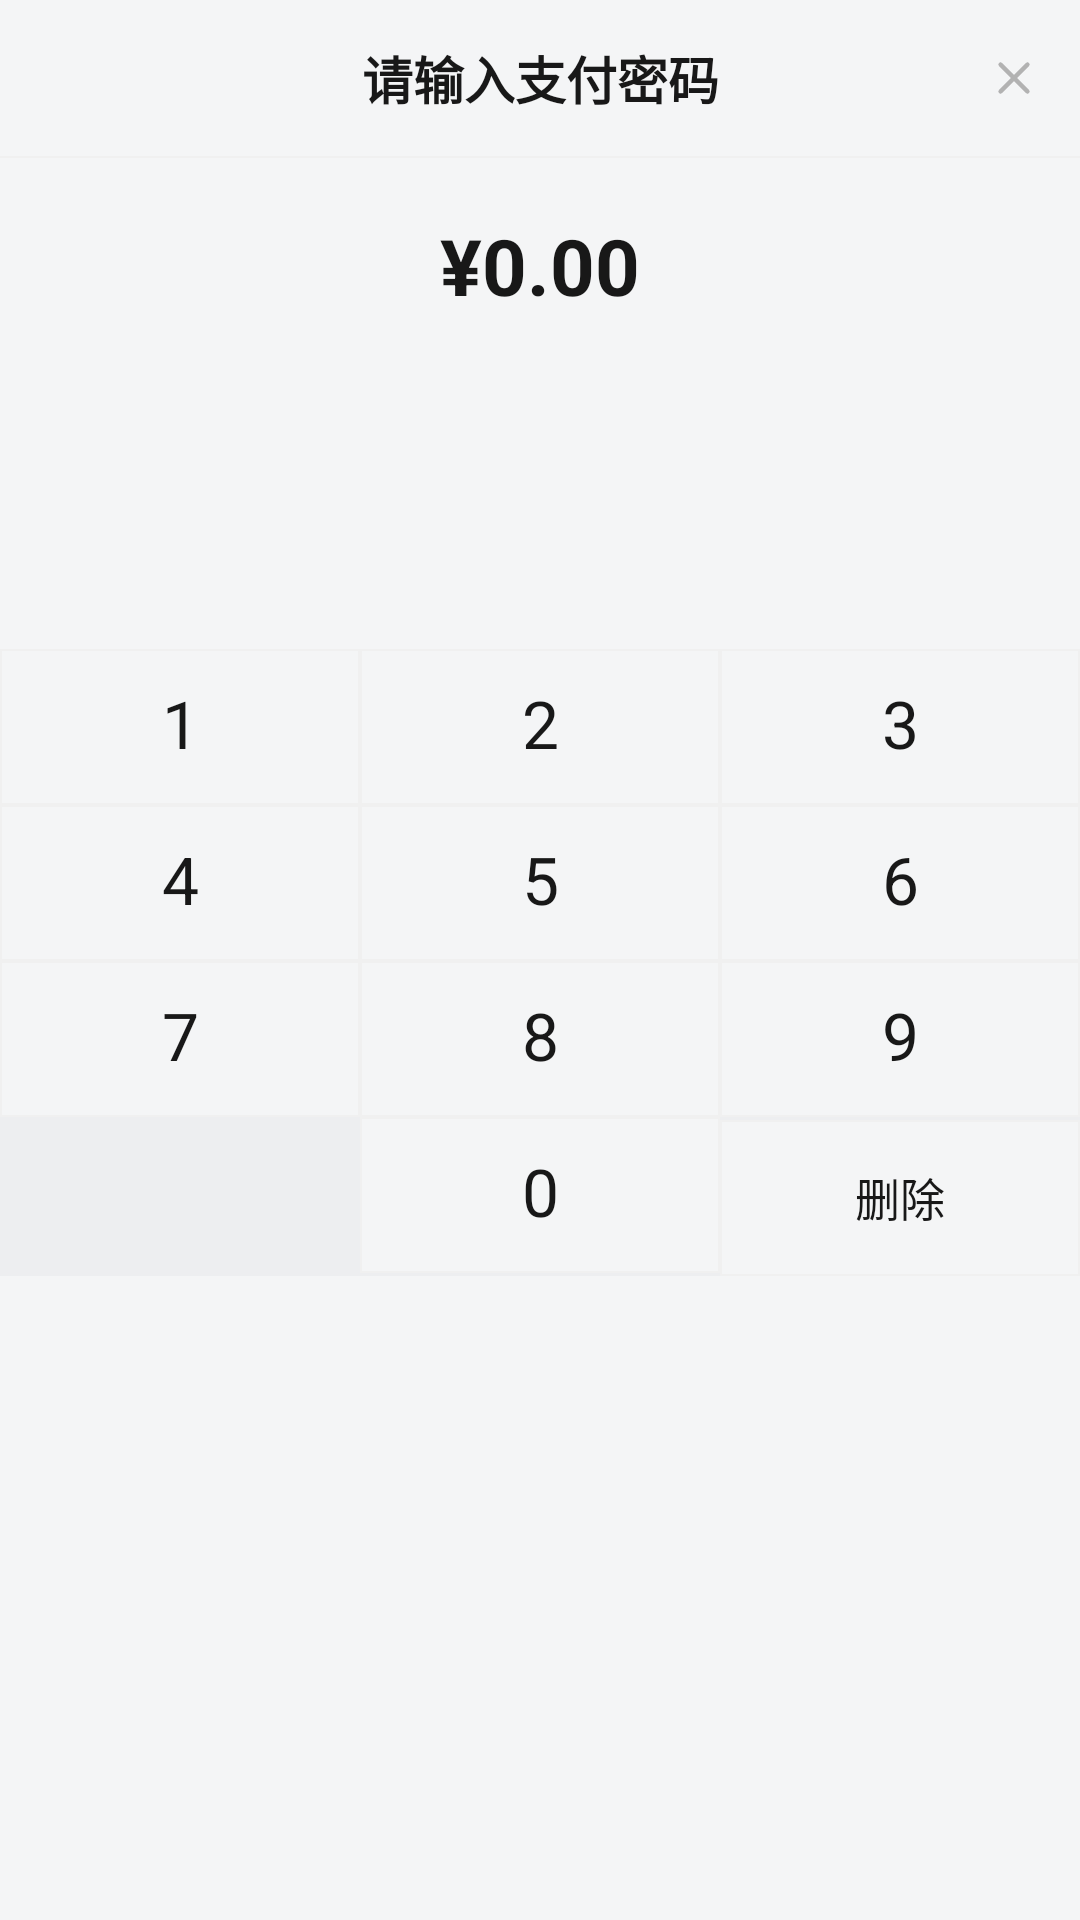

Where icons sit on this 1080px×1920px app screen, as detection(x1, y1, x2, y2):
关闭: detection(998, 62, 1030, 94)
